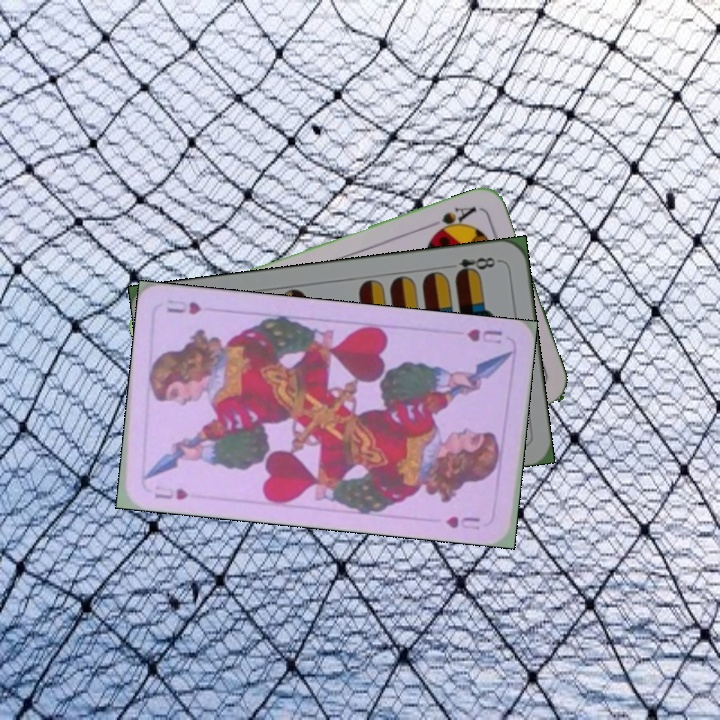E8: (443, 253, 502, 279)
HU: (463, 325, 505, 347), (150, 481, 191, 503)
SA: (429, 202, 480, 238)
